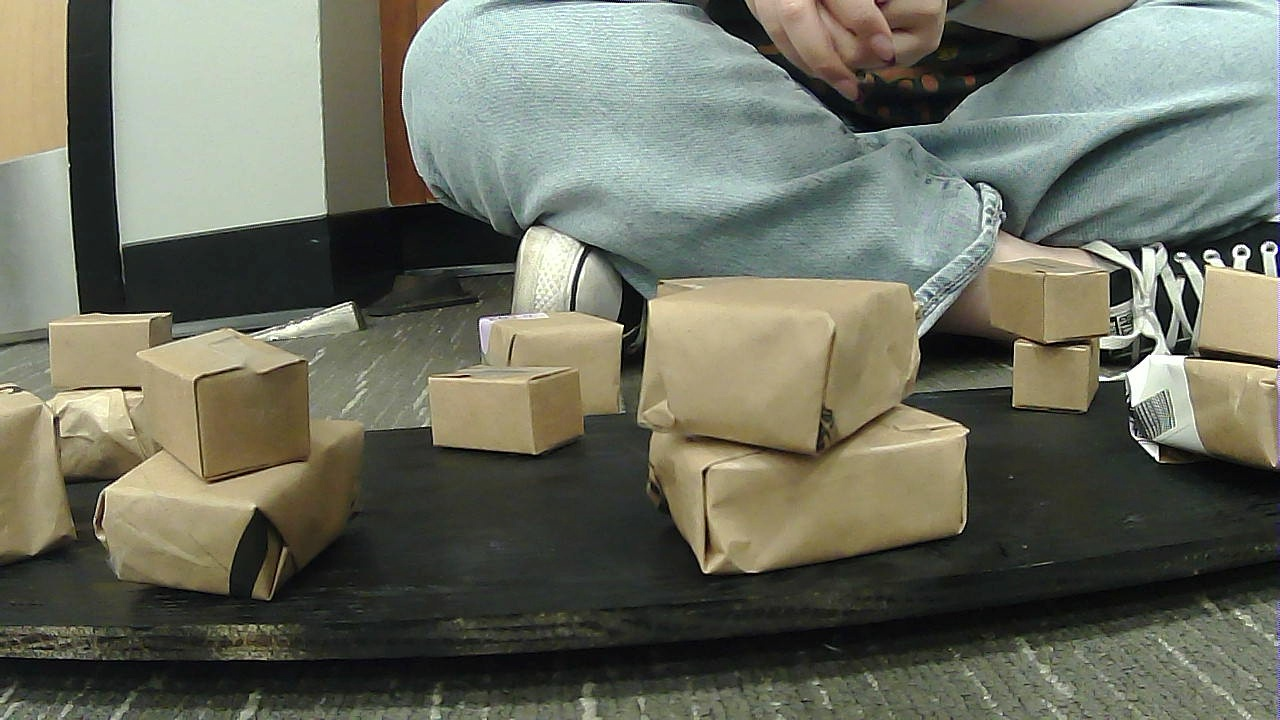package: (643, 431, 976, 565), (142, 420, 368, 597), (647, 291, 922, 432), (143, 342, 313, 475), (1131, 345, 1274, 476), (421, 355, 590, 460), (5, 390, 81, 579), (492, 313, 623, 419), (980, 249, 1107, 353), (50, 309, 163, 395), (43, 381, 151, 461), (1193, 262, 1277, 351), (1011, 340, 1101, 413)
stacked: (627, 282, 969, 587), (100, 328, 381, 592), (1131, 254, 1266, 479), (981, 244, 1107, 411), (57, 301, 145, 462)
